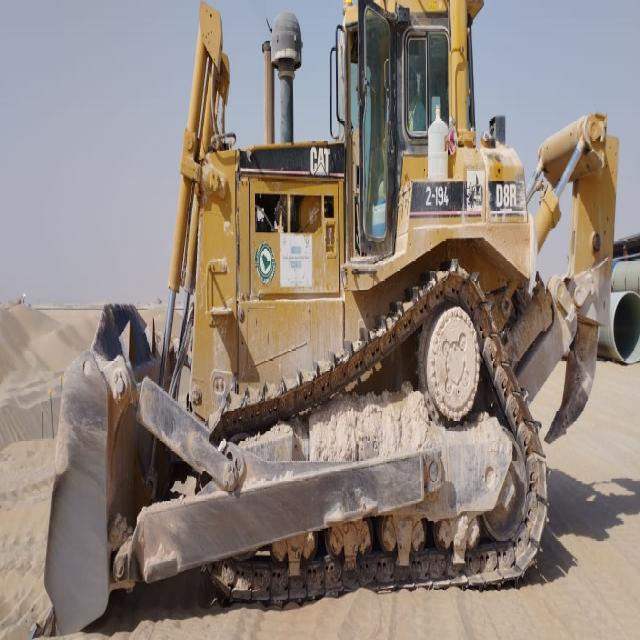Bulldozer: (28, 4, 624, 637)
